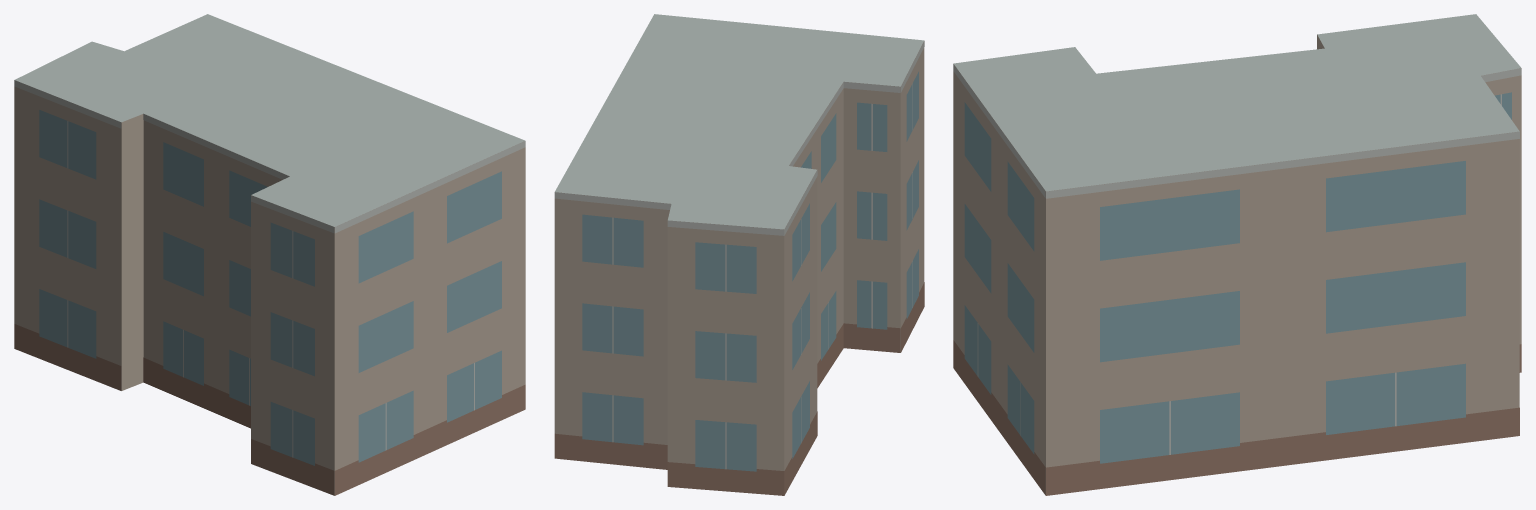
File: survey-upis-32993731.glb
3 renders of one model, left to right at view 1: azimuth 30°, elevation 25°; view 2: azimuth 150°, elevation 25°; view 3: azimuth 270°, elevation 25°, orthographic. The views are drawn at different scales.
Visible parts, largest first — view 1: survey-upis-32993731.tmp; view 2: survey-upis-32993731.tmp; view 3: survey-upis-32993731.tmp.
Boxes of the visible parts, <box> form: survey-upis-32993731.tmp: <box>14,14,525,495</box>; survey-upis-32993731.tmp: <box>554,14,924,495</box>; survey-upis-32993731.tmp: <box>953,14,1521,495</box>.
Bounding box in the file's own units: 12.64 × 10.1 × 17.1.
